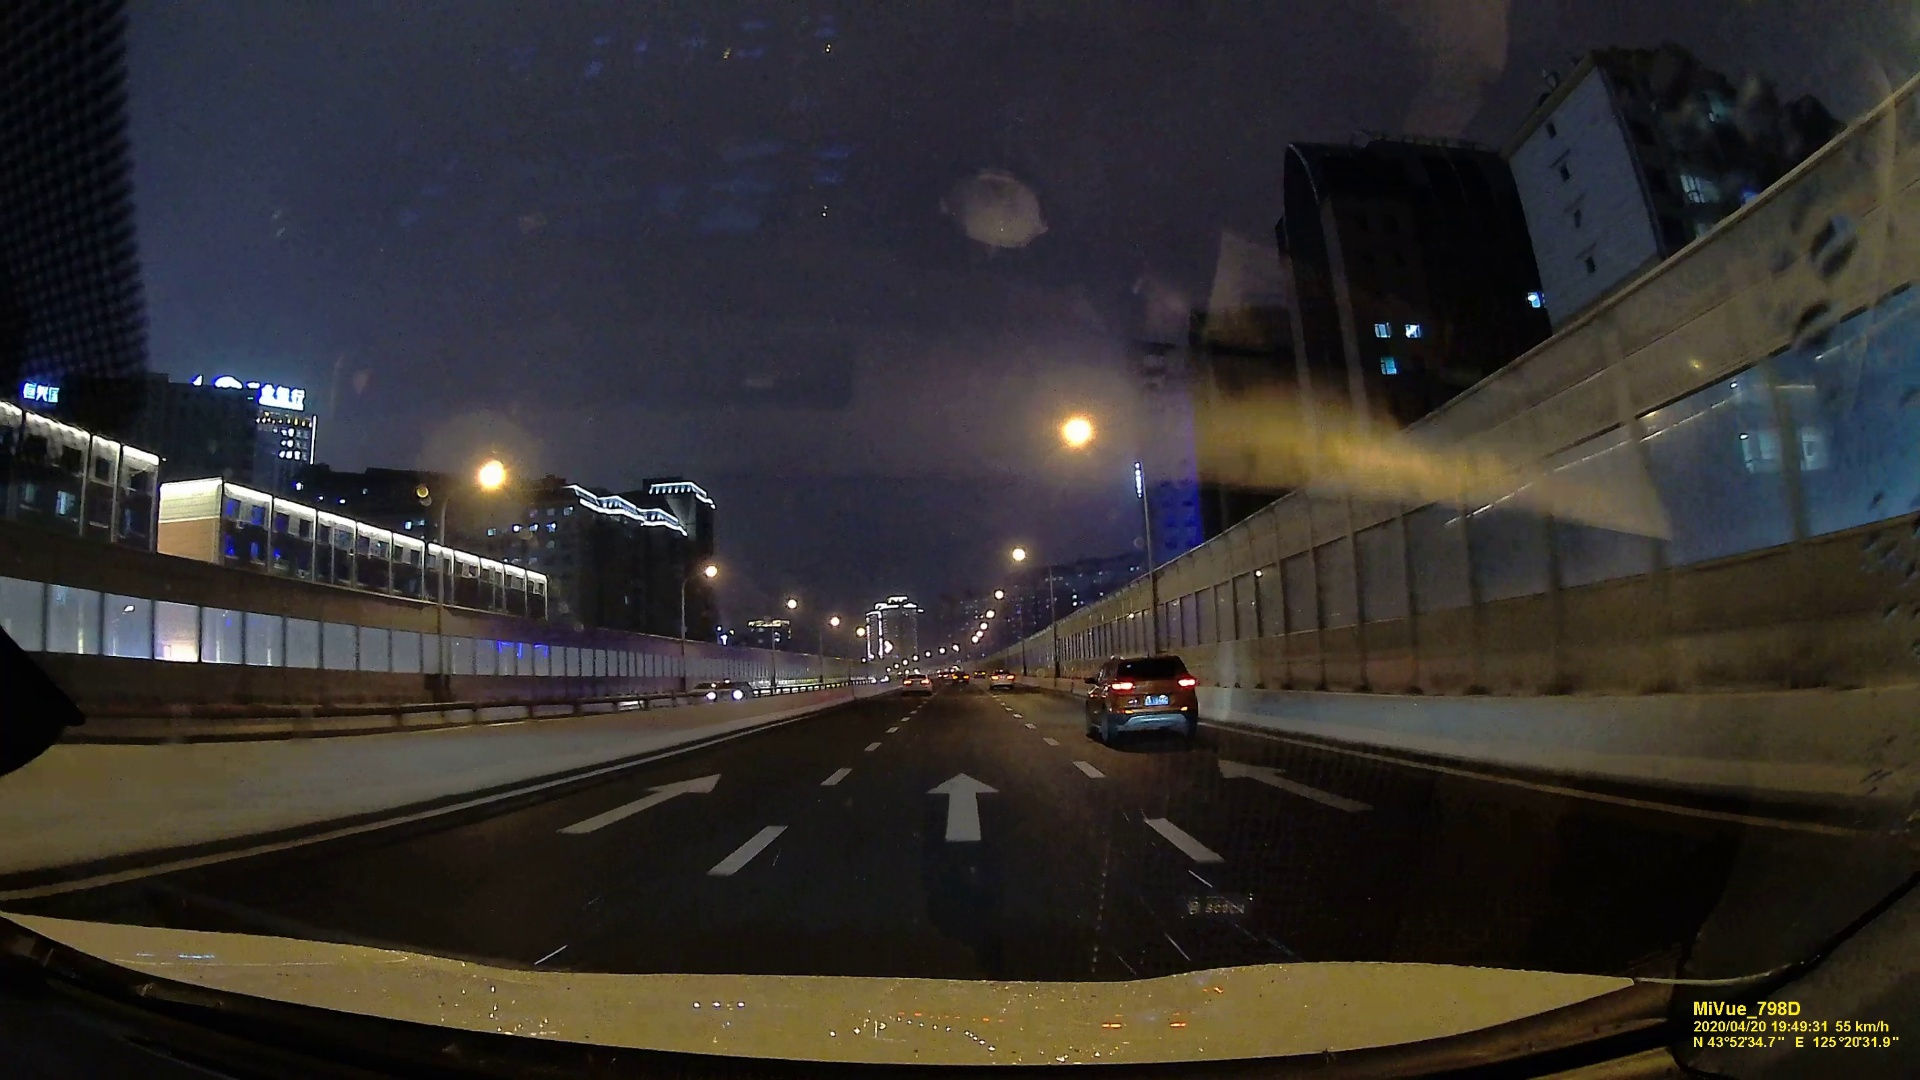vehicle: (1081, 654, 1204, 742), (704, 679, 756, 702), (988, 667, 1015, 692), (901, 673, 930, 694), (951, 669, 971, 686)
